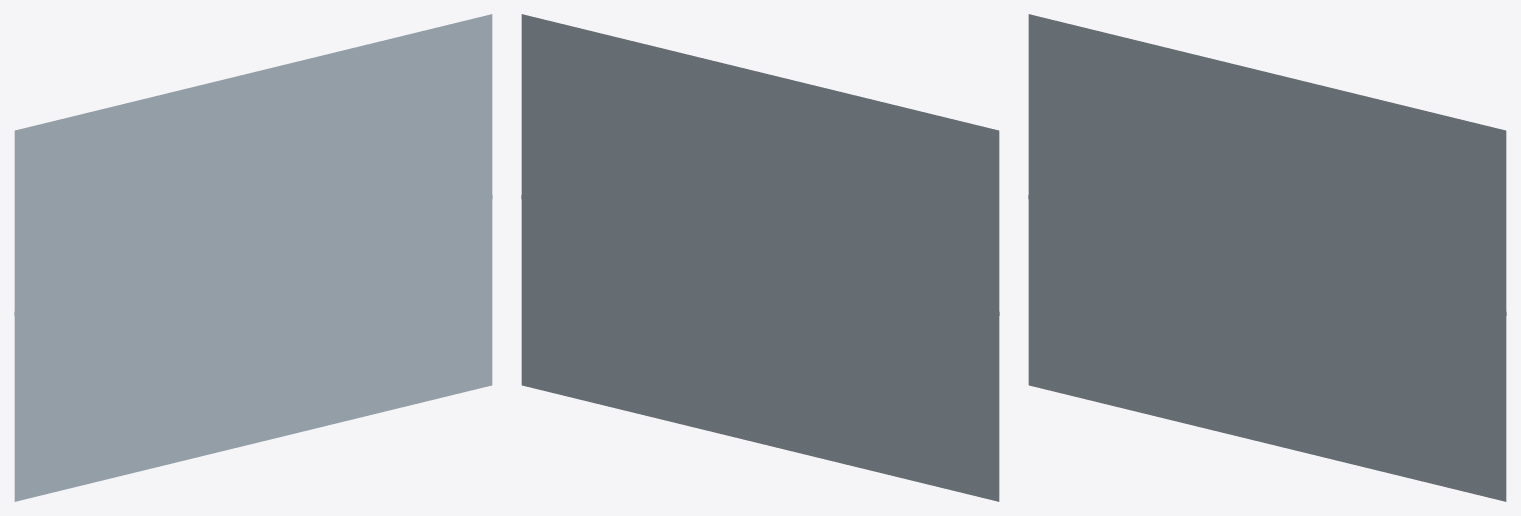
The model's file is Keqing_StarwardSword_CancelAfterCombo_OneCommittedSlash2.fbx.
3 views of the same model, side by side, from view 1: azimuth 30°, elevation 25°; view 2: azimuth 150°, elevation 25°; view 3: azimuth 330°, elevation 25° (orthographic).
Parts seen in each view (by area): view 1: PART_OneGroupElectroSweepBody_2, PART_OnePurpleBladeWake_2; view 2: PART_OneGroupElectroSweepBody_2, PART_OnePurpleBladeWake_2, PART_OneSharpWhiteBlade_2; view 3: PART_OneGroupElectroSweepBody_2, PART_OnePurpleBladeWake_2, PART_OneSharpWhiteBlade_2.
Boxes of the visible parts, x1,y1,x2,y2 form: PART_OneGroupElectroSweepBody_2: [14, 14, 492, 501]; PART_OnePurpleBladeWake_2: [14, 195, 492, 320]; PART_OneGroupElectroSweepBody_2: [521, 14, 999, 501]; PART_OnePurpleBladeWake_2: [521, 195, 999, 317]; PART_OneSharpWhiteBlade_2: [522, 199, 992, 314]; PART_OneGroupElectroSweepBody_2: [1028, 14, 1506, 501]; PART_OnePurpleBladeWake_2: [1028, 195, 1506, 320]; PART_OneSharpWhiteBlade_2: [1030, 199, 1506, 316].
Bounding box in the file's own units: 781 × 579 × 9.44e-05.
